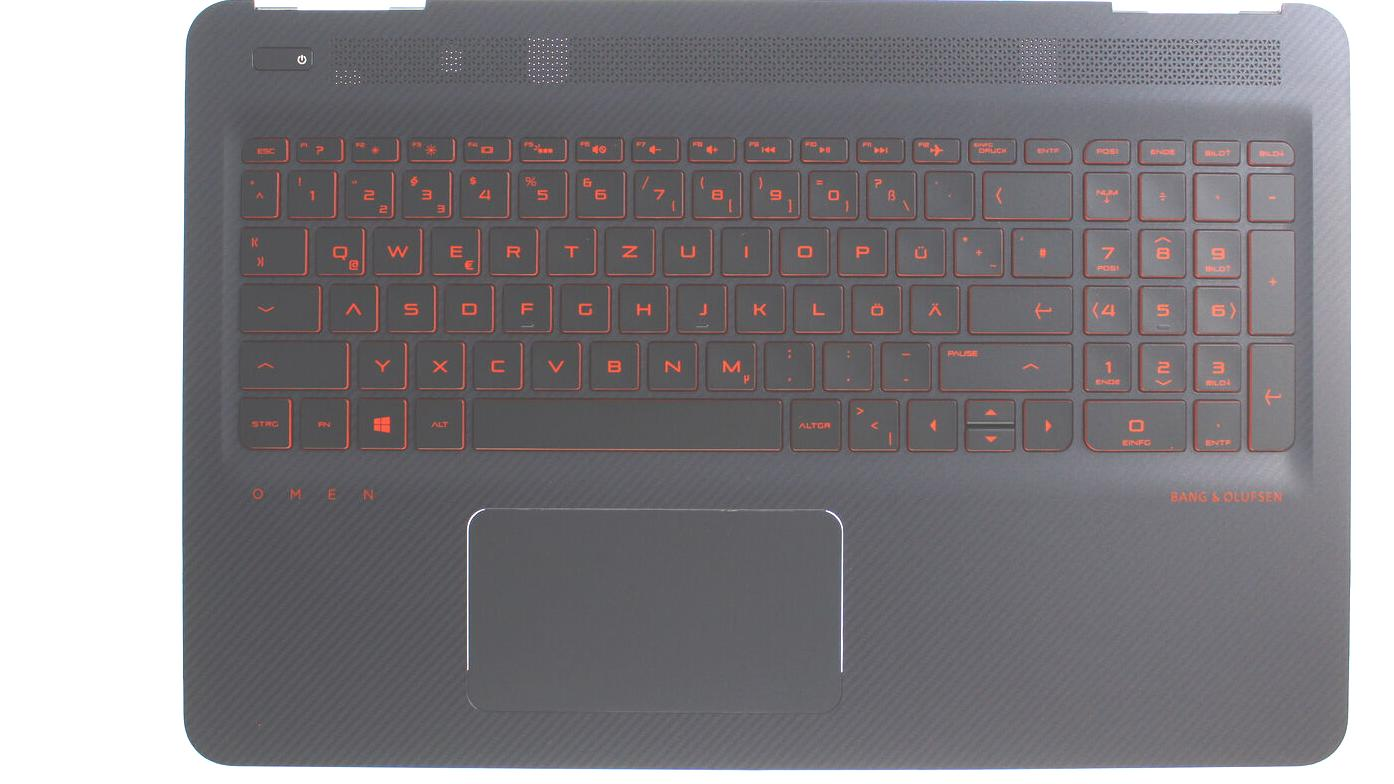0: (804, 166, 857, 217)
1: (285, 165, 335, 216)
2: (341, 166, 393, 216)
3: (398, 165, 450, 216)
4: (457, 165, 508, 216)
5: (515, 166, 566, 216)
6: (573, 166, 624, 216)
7: (631, 166, 682, 217)
8: (689, 166, 740, 217)
9: (747, 166, 799, 217)
a: (325, 278, 377, 330)
accent: (921, 166, 971, 217)
ae: (907, 279, 958, 332)
alt-left: (412, 394, 463, 447)
altgr-right: (786, 393, 840, 450)
b: (586, 336, 639, 388)
c: (469, 336, 522, 388)
caret: (237, 165, 277, 216)
comma: (761, 336, 813, 388)
d: (441, 278, 492, 331)
del: (980, 165, 1070, 217)
e: (427, 221, 480, 273)
enter: (965, 280, 1072, 332)
f: (499, 278, 549, 330)
g: (556, 278, 609, 330)
h: (616, 279, 667, 331)
hash: (1008, 224, 1071, 275)
i: (718, 221, 770, 273)
j: (674, 278, 725, 330)
k: (732, 279, 784, 331)
keyboard: (224, 100, 1311, 473)
l: (790, 279, 841, 331)
less: (844, 394, 898, 451)
m: (702, 336, 755, 388)
minus: (877, 337, 929, 388)
n: (644, 336, 697, 388)
o: (776, 222, 829, 274)
oe: (848, 280, 900, 332)
p: (834, 222, 886, 274)
plus: (950, 222, 1001, 274)
point: (820, 337, 872, 388)
q: (310, 221, 364, 274)
r: (486, 221, 538, 273)
s: (383, 278, 434, 330)
shift-left: (235, 334, 347, 388)
shift-lock: (235, 278, 319, 330)
shift-right: (936, 337, 1071, 388)
space: (467, 393, 782, 450)
ss: (863, 166, 914, 217)
strg-left: (234, 392, 291, 447)
t: (544, 221, 596, 273)
tab: (234, 221, 305, 273)
u: (660, 221, 712, 274)
ue: (892, 222, 943, 274)
v: (528, 335, 580, 388)
w: (368, 220, 421, 273)
x: (413, 336, 464, 388)
y: (355, 335, 406, 388)
z: (602, 221, 654, 273)
